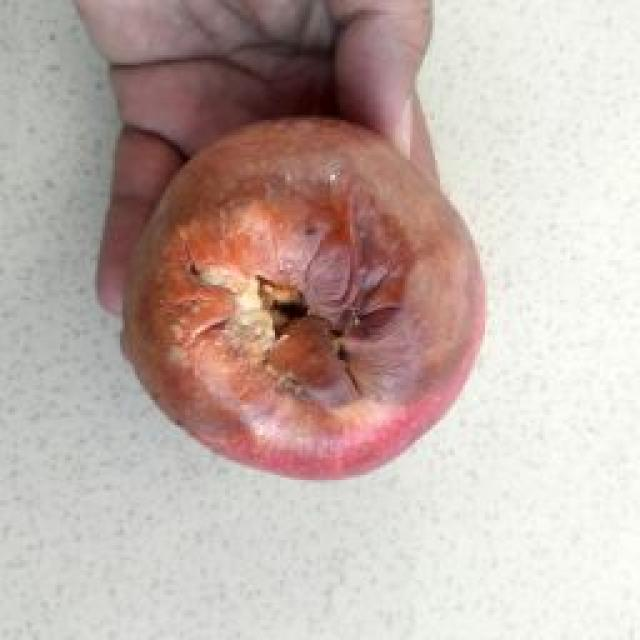Bad_Apple: (122, 119, 482, 478)
